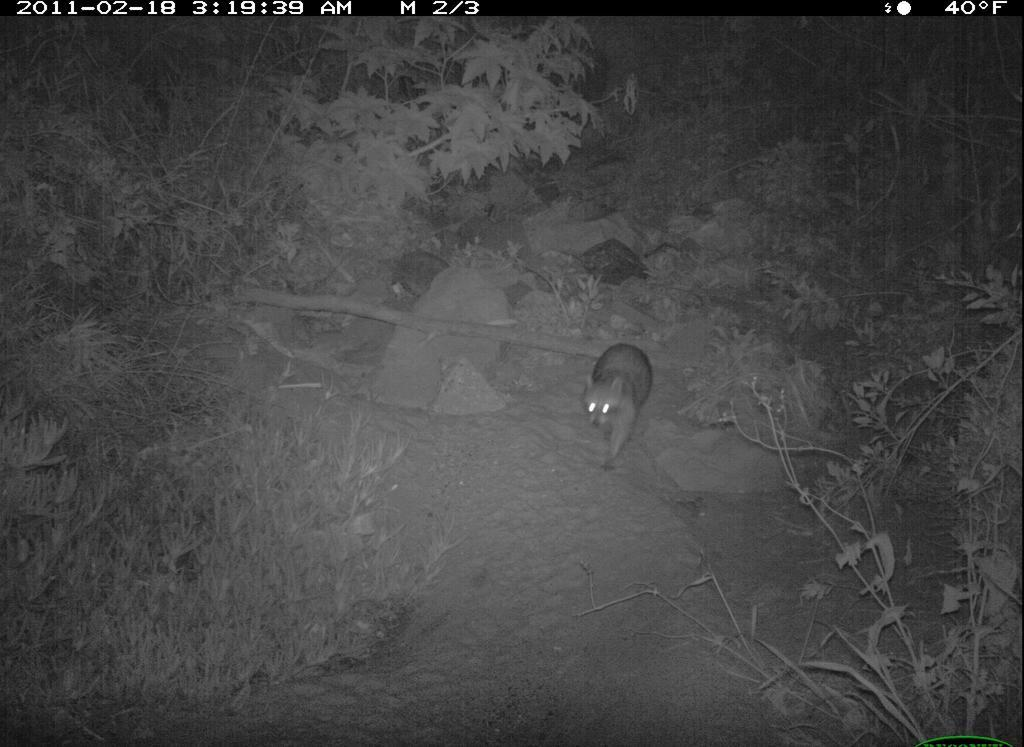raccoon: (568, 312, 669, 486)
